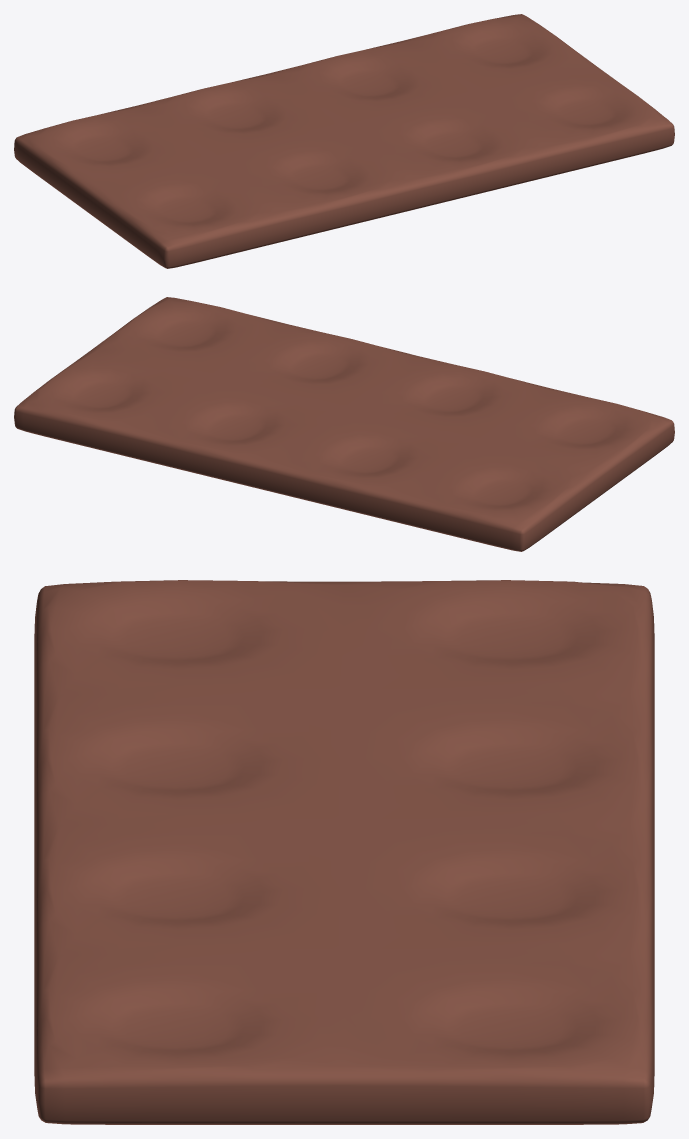
Rendered from Farm_2_Garden_1.glb.
The picture shows the model from 3 angles, top to bottom: view 1: azimuth 30°, elevation 25°; view 2: azimuth 150°, elevation 25°; view 3: azimuth 270°, elevation 25°; orthographic projection. The views are drawn at different scales.
Parts seen in each view (by area): view 1: Farm_2_Garden_1; view 2: Farm_2_Garden_1; view 3: Farm_2_Garden_1.
Part boxes in pixels (x1,y1,x2,y2): Farm_2_Garden_1: (14, 14, 674, 268); Farm_2_Garden_1: (14, 297, 674, 551); Farm_2_Garden_1: (34, 580, 654, 1124).
Size of the model in its own units: 5.13 by 0.2773 by 2.68.
1 material, 1 textured.
